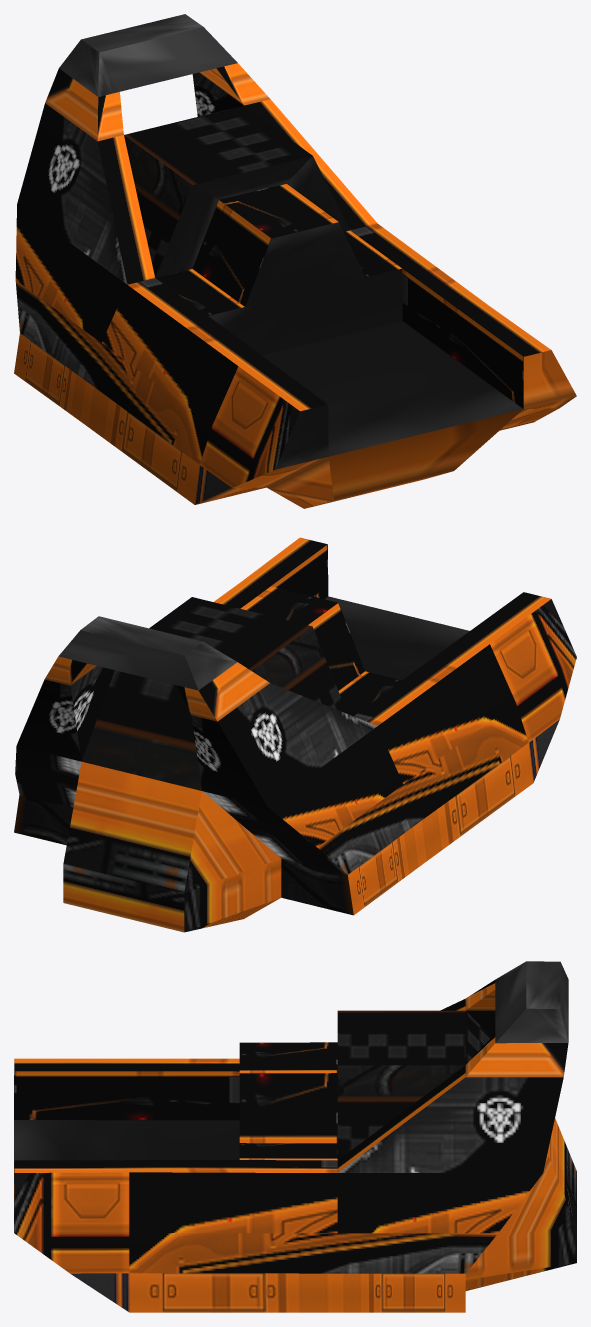
The model's file is Producer-Base_Recycler_t_scale.2-0.obj.
3 renders of one model, top to bottom at view 1: azimuth 30°, elevation 25°; view 2: azimuth 150°, elevation 25°; view 3: azimuth 270°, elevation 25°, orthographic. The views are drawn at different scales.
Parts seen in each view (by area): view 1: Base_Recycler_t_scale-main_body.2-0; view 2: Base_Recycler_t_scale-main_body.2-0; view 3: Base_Recycler_t_scale-main_body.2-0.
Boxes of the visible parts, x1,y1,x2,y2 form: Base_Recycler_t_scale-main_body.2-0: (14,14,576,508); Base_Recycler_t_scale-main_body.2-0: (14,537,576,932); Base_Recycler_t_scale-main_body.2-0: (14,961,576,1312).
Bounding box in the file's own units: 12.42 × 10.45 × 19.11.
1 material, 1 textured.
